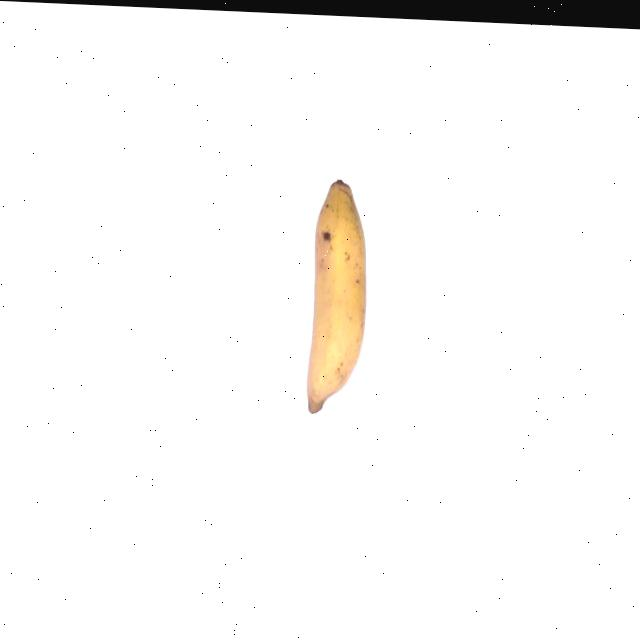banana: (304, 174, 369, 418)
